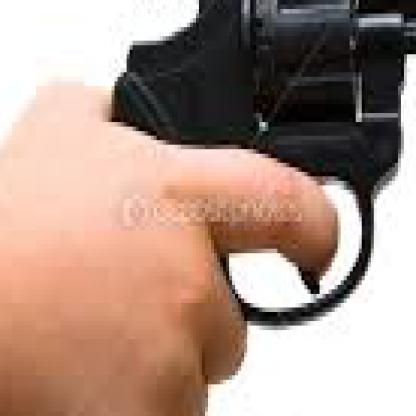gun: (99, 0, 413, 376)
